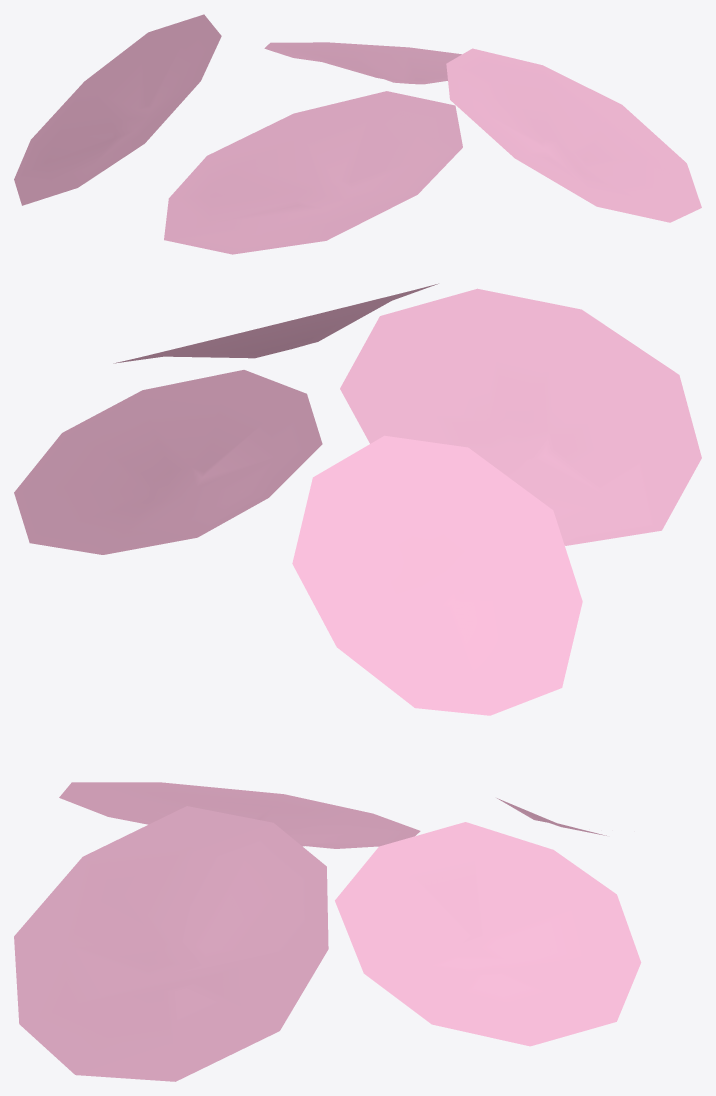
The model's file is SM_Pink_Flower.glb.
3 views of the same model, one above another, from view 1: azimuth 30°, elevation 25°; view 2: azimuth 150°, elevation 25°; view 3: azimuth 270°, elevation 25° (orthographic). The views are drawn at different scales.
Visible parts, largest first — view 1: SM_Pink_Flower; view 2: SM_Pink_Flower; view 3: SM_Pink_Flower.
Part boxes in pixels (x1=…): SM_Pink_Flower: x1=14, y1=14, x2=701, y2=254; SM_Pink_Flower: x1=14, y1=283, x2=701, y2=715; SM_Pink_Flower: x1=14, y1=782, x2=641, y2=1081.
Bounding box in the file's own units: 0.2909 × 0.086 × 0.2847.
